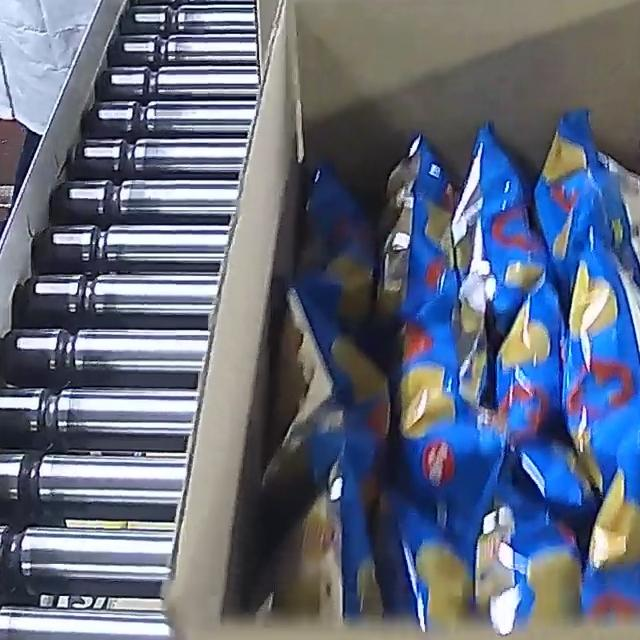paprika: (276, 107, 640, 634)
